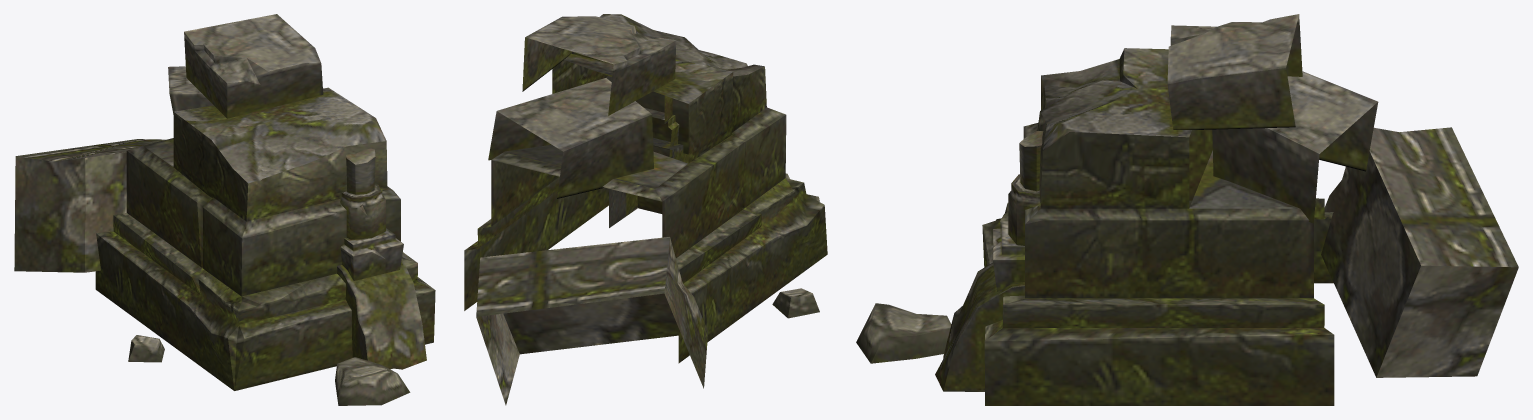
The model's file is 4009_Item_qiang_4.FBX.
The picture shows the model from 3 angles, left to right: view 1: azimuth 30°, elevation 25°; view 2: azimuth 150°, elevation 25°; view 3: azimuth 270°, elevation 25°; orthographic projection. The views are drawn at different scales.
Parts seen in each view (by area): view 1: 4009_Item_qiang_4; view 2: 4009_Item_qiang_4; view 3: 4009_Item_qiang_4.
Part boxes in pixels (x1,y1,x2,y2): 4009_Item_qiang_4: (14, 14, 435, 405); 4009_Item_qiang_4: (464, 14, 827, 405); 4009_Item_qiang_4: (856, 14, 1518, 405).
Size of the model in its own units: 226 by 406 by 233.
